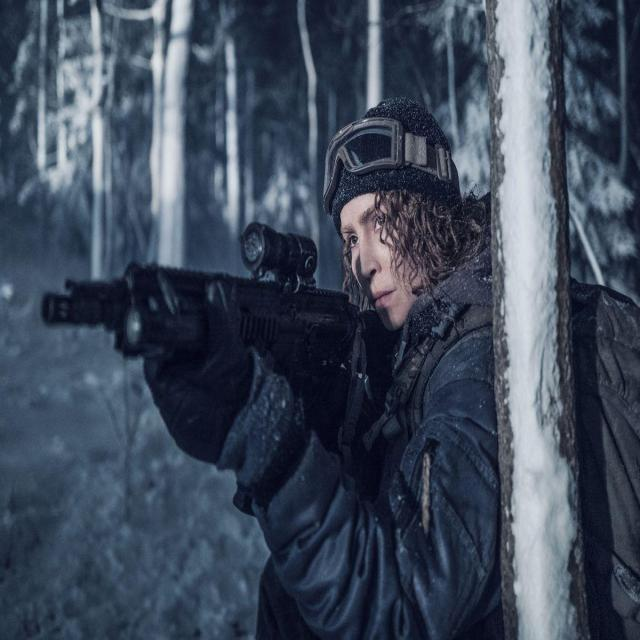weapon: (38, 219, 390, 389)
